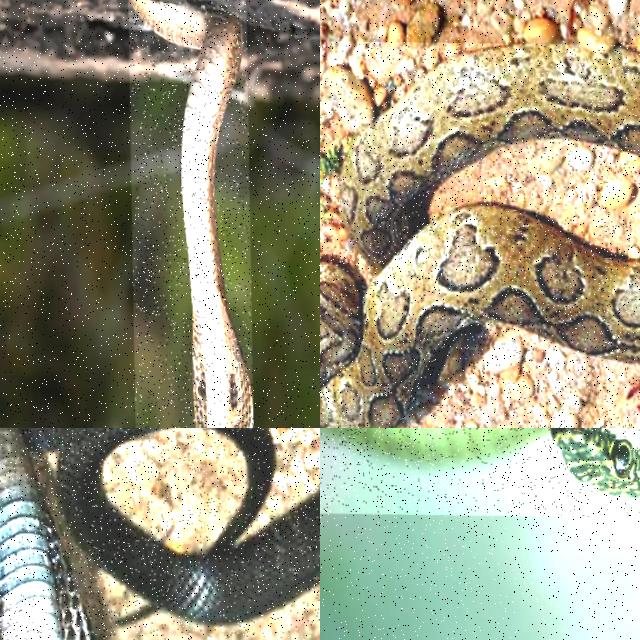Chrysopelea ornata: (320, 428, 540, 460)
Daboia siamensis: (320, 44, 639, 427)
Naja kaouthia: (0, 428, 319, 639), (130, 0, 253, 427)
